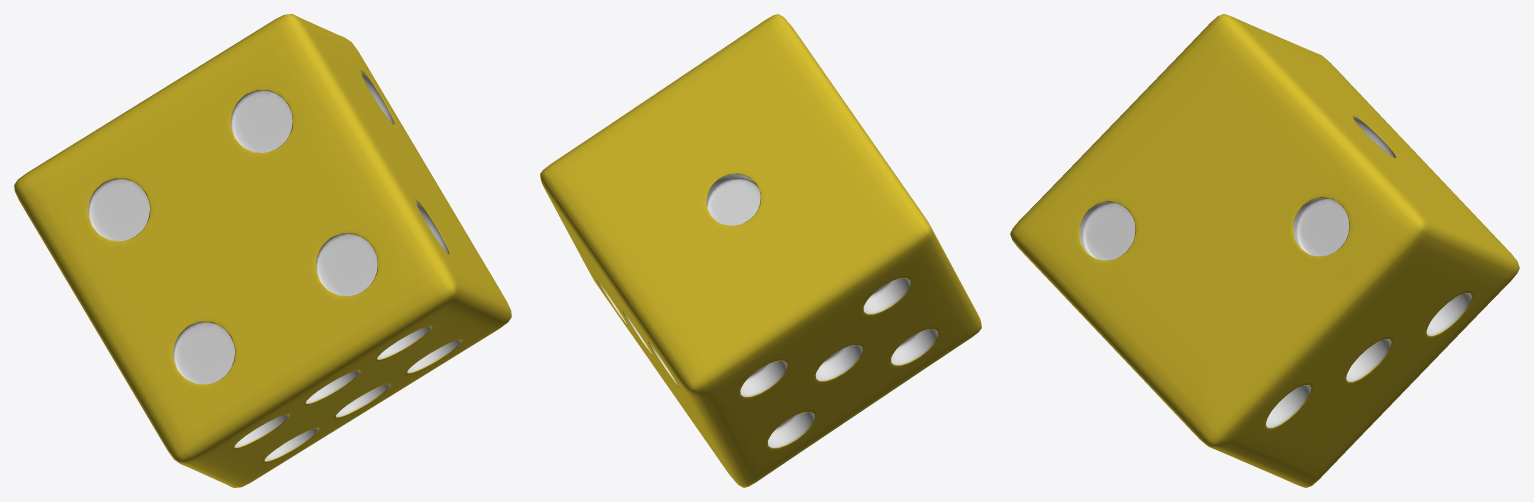
The model's file is DiceRoll4.gltf.
The picture shows the model from 3 angles, left to right: view 1: azimuth 30°, elevation 25°; view 2: azimuth 150°, elevation 25°; view 3: azimuth 270°, elevation 25°; orthographic projection. The views are drawn at different scales.
Visible parts, largest first — view 1: Cube; view 2: Cube; view 3: Cube.
Part boxes in pixels (x1,y1,x2,y2): Cube: [14, 14, 511, 487]; Cube: [540, 14, 981, 487]; Cube: [1010, 14, 1519, 487].
Bounding box in the file's own units: 3.01 × 3.29 × 3.19.
Materials: 1 (1 with a texture image).
